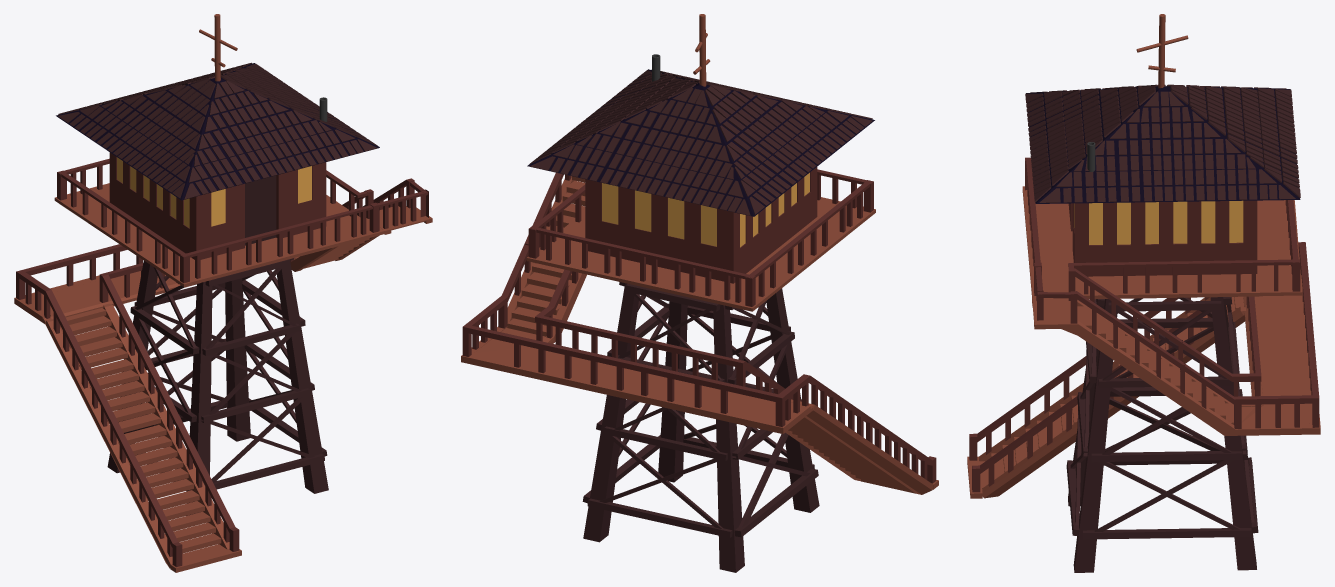
File: Torre de Rádio com porta2.fbx
3 views of the same model, side by side, from view 1: azimuth 30°, elevation 25°; view 2: azimuth 150°, elevation 25°; view 3: azimuth 270°, elevation 25° (orthographic). The views are drawn at different scales.
Visible parts, largest first — view 1: Torre de Rádio; view 2: Torre de Rádio; view 3: Torre de Rádio.
Boxes of the visible parts, x1,y1,x2,y2 form: Torre de Rádio: (14, 14, 432, 572); Torre de Rádio: (461, 14, 938, 572); Torre de Rádio: (967, 14, 1320, 572).
Size of the model in its own units: 2809 by 4198 by 2595.
